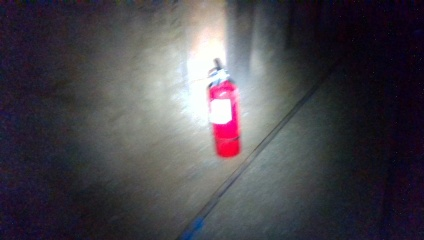fire_extinguisher: (206, 56, 244, 159)
